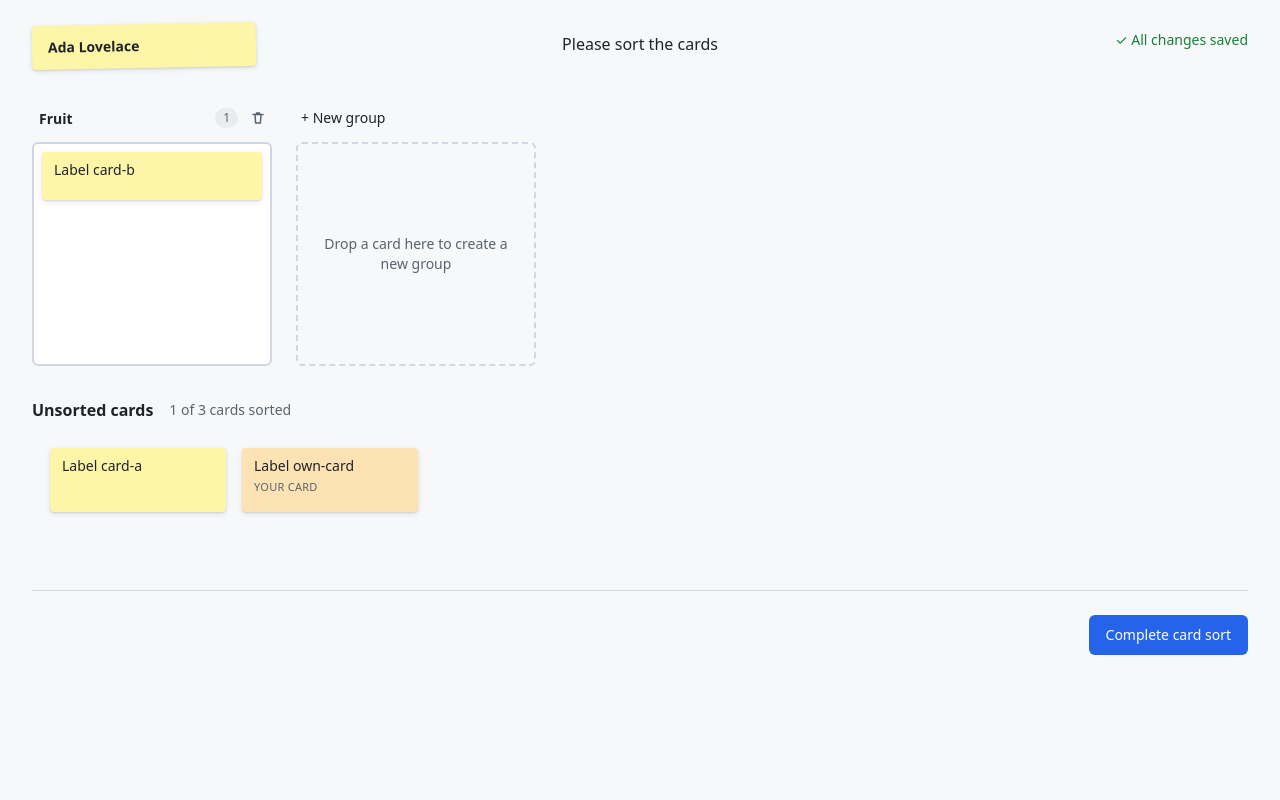
Board › BRD-05: adding a group sends addGroup and focuses its name input
Click the button "+ New group". click: click(343, 118)
box: [288,102,398,134]
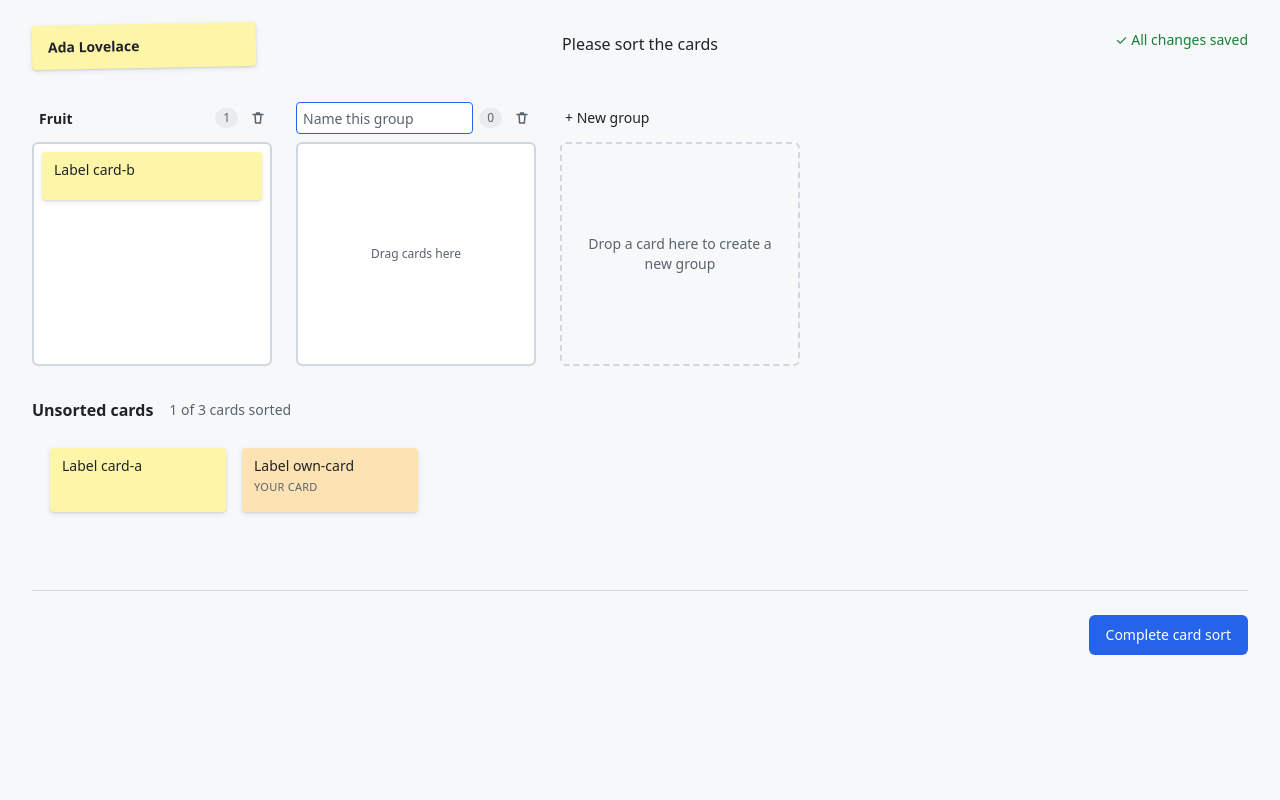
Now the number of fields named "Group name" is 2, box [32,102,209,134]; [296,102,473,134]
